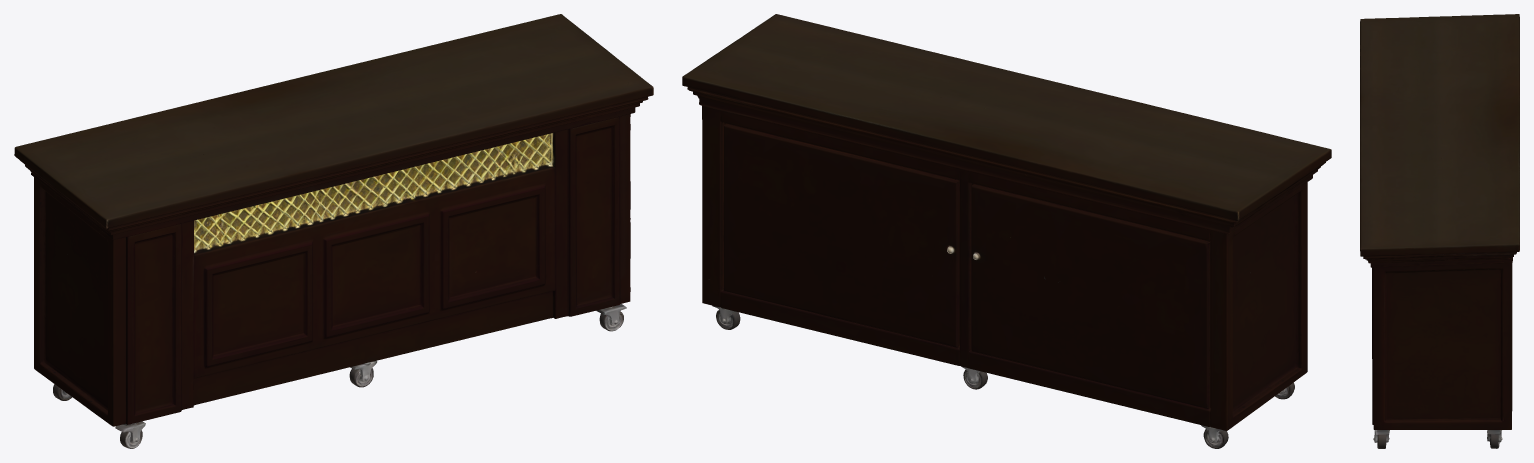
The picture shows the model from 3 angles, left to right: view 1: azimuth 30°, elevation 25°; view 2: azimuth 150°, elevation 25°; view 3: azimuth 270°, elevation 25°; orthographic projection. The views are drawn at different scales.
Visible parts, largest first — view 1: model; view 2: model; view 3: model.
Part boxes in pixels (x1,y1,x2,y2): model: [14, 14, 653, 448]; model: [682, 14, 1331, 448]; model: [1360, 14, 1519, 448].
Size of the model in its own units: 2.05 by 0.9 by 0.6.
Materials: 1 (1 with a texture image).
